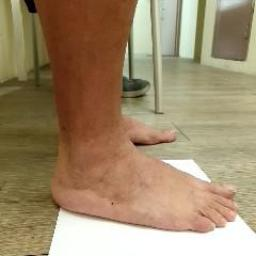Lateral View -Right Foot-: (37, 95, 252, 247)
